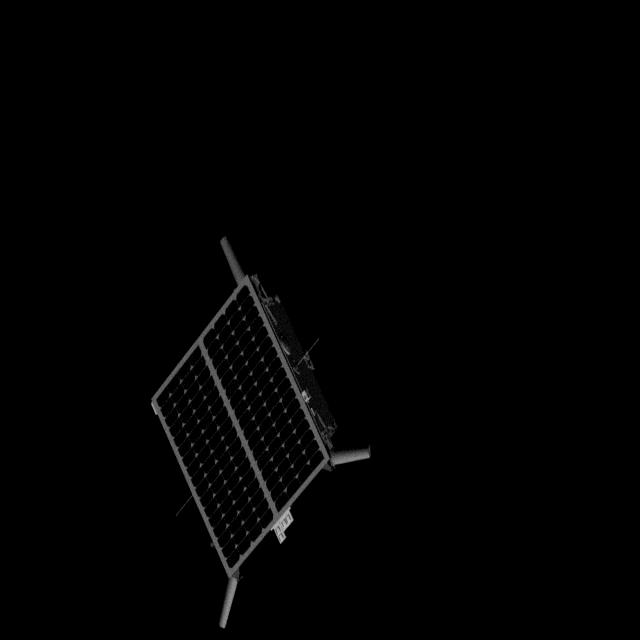satellite: (130, 220, 380, 632)
